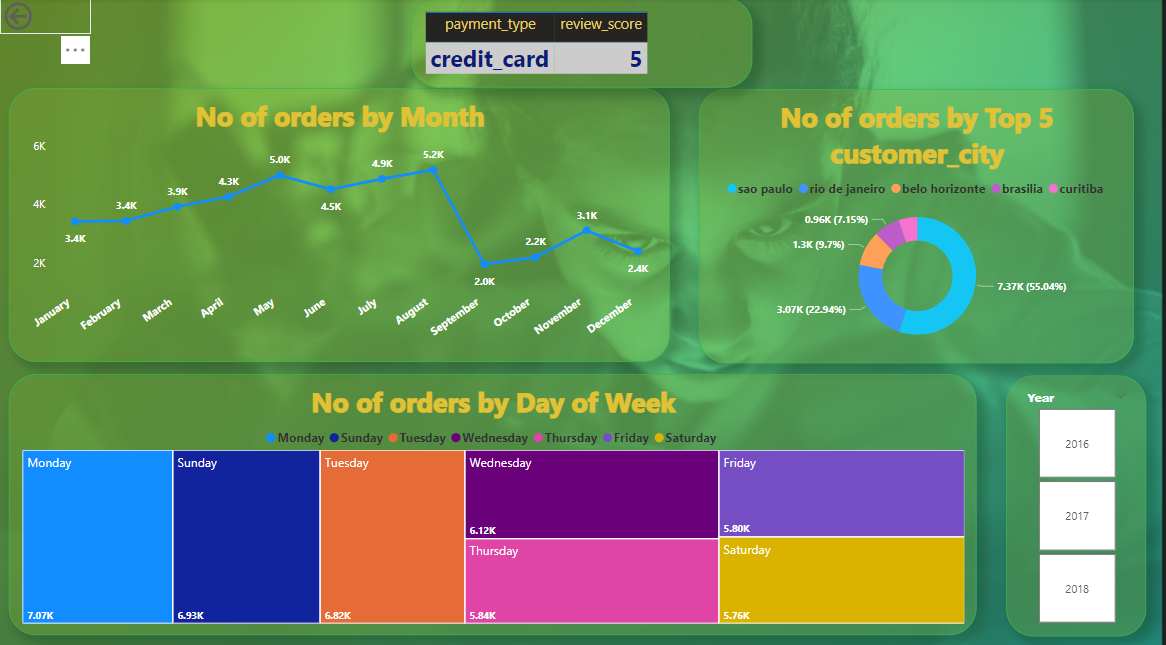

The dashboard page shown, as its layout file describes it:
{"tool":"tableau","page":{"name":"Master Dashboard","canvas":[1000,1000],"units":"permille","ordinal":5},"visuals":[{"type":"blank","box":[0,0,1000,23.5]},{"type":"image","param":"C:/Users/afrin/Downloads/olist.png","box":[0,23.5,127.3,117.5]},{"type":"text","box":[127.3,23.5,823.8,117.5]},{"type":"dashboard-object","box":[951.1,23.5,48.9,117.5]},{"type":"blank","box":[0,141,1000,23.5]},{"type":"image","param":"C:/Users/afrin/Downloads/pet.jpg","box":[3,170.4,71.8,141]},{"type":"worksheet","title":"KPI - 3","mark":"Automatic","rows":["product_category_name"],"box":[74.8,170.4,400.1,141]},{"type":"worksheet","title":"Sheet 21","mark":"Automatic","rows":["payment_type","review_score"],"box":[475,170.4,522,141]},{"type":"worksheet","title":"Donut-ww","mark":"Pie","rows":["Calculation_264023543316213761","Calculation_264023543316226051"],"box":[12.1,340.8,325.3,635.7]},{"type":"worksheet","title":"KPI - 5","mark":"Automatic","rows":["Calculation_450922927159508995","Calculation_450922927159508995"],"cols":["review_score"],"box":[337.4,340.8,325.3,635.7]},{"type":"worksheet","title":"KPI - 4","mark":"Automatic","box":[662.6,340.8,325.3,635.7]}]}

Visuals, with their boxes on the dashboard's canvas, which has no fixed pixel size, in thousandths of its width and height (x1, y1, x2, y2). These are canvas units, not pixel positions in the 1166x645 screenshot, which may show the page scaled, cropped or inside an application window:
blank: 0, 0, 1000, 24
image: 0, 24, 127, 141
text: 127, 24, 951, 141
dashboard-object: 951, 24, 1000, 141
blank: 0, 141, 1000, 164
image: 3, 170, 75, 311
"KPI - 3" worksheet: 75, 170, 475, 311
"Sheet 21" worksheet: 475, 170, 997, 311
"Donut-ww" worksheet (Pie marks): 12, 341, 337, 976
"KPI - 5" worksheet: 337, 341, 663, 976
"KPI - 4" worksheet: 663, 341, 988, 976
